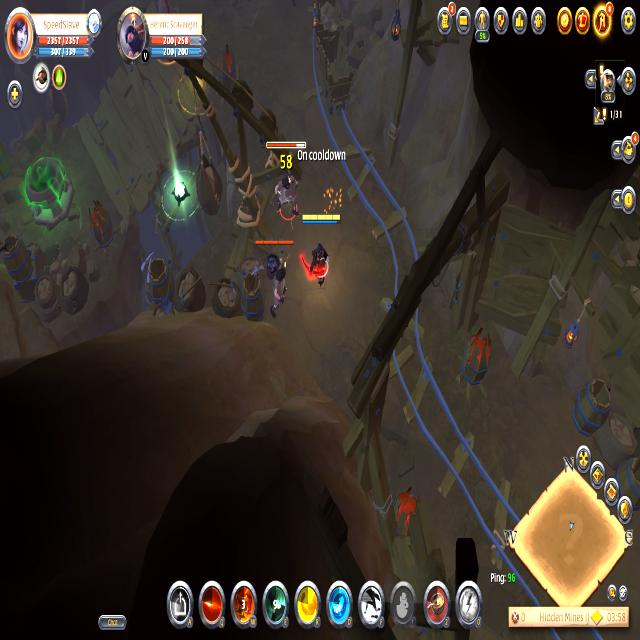ore: (264, 136, 304, 225), (254, 237, 296, 321)
red: (300, 210, 341, 292)
